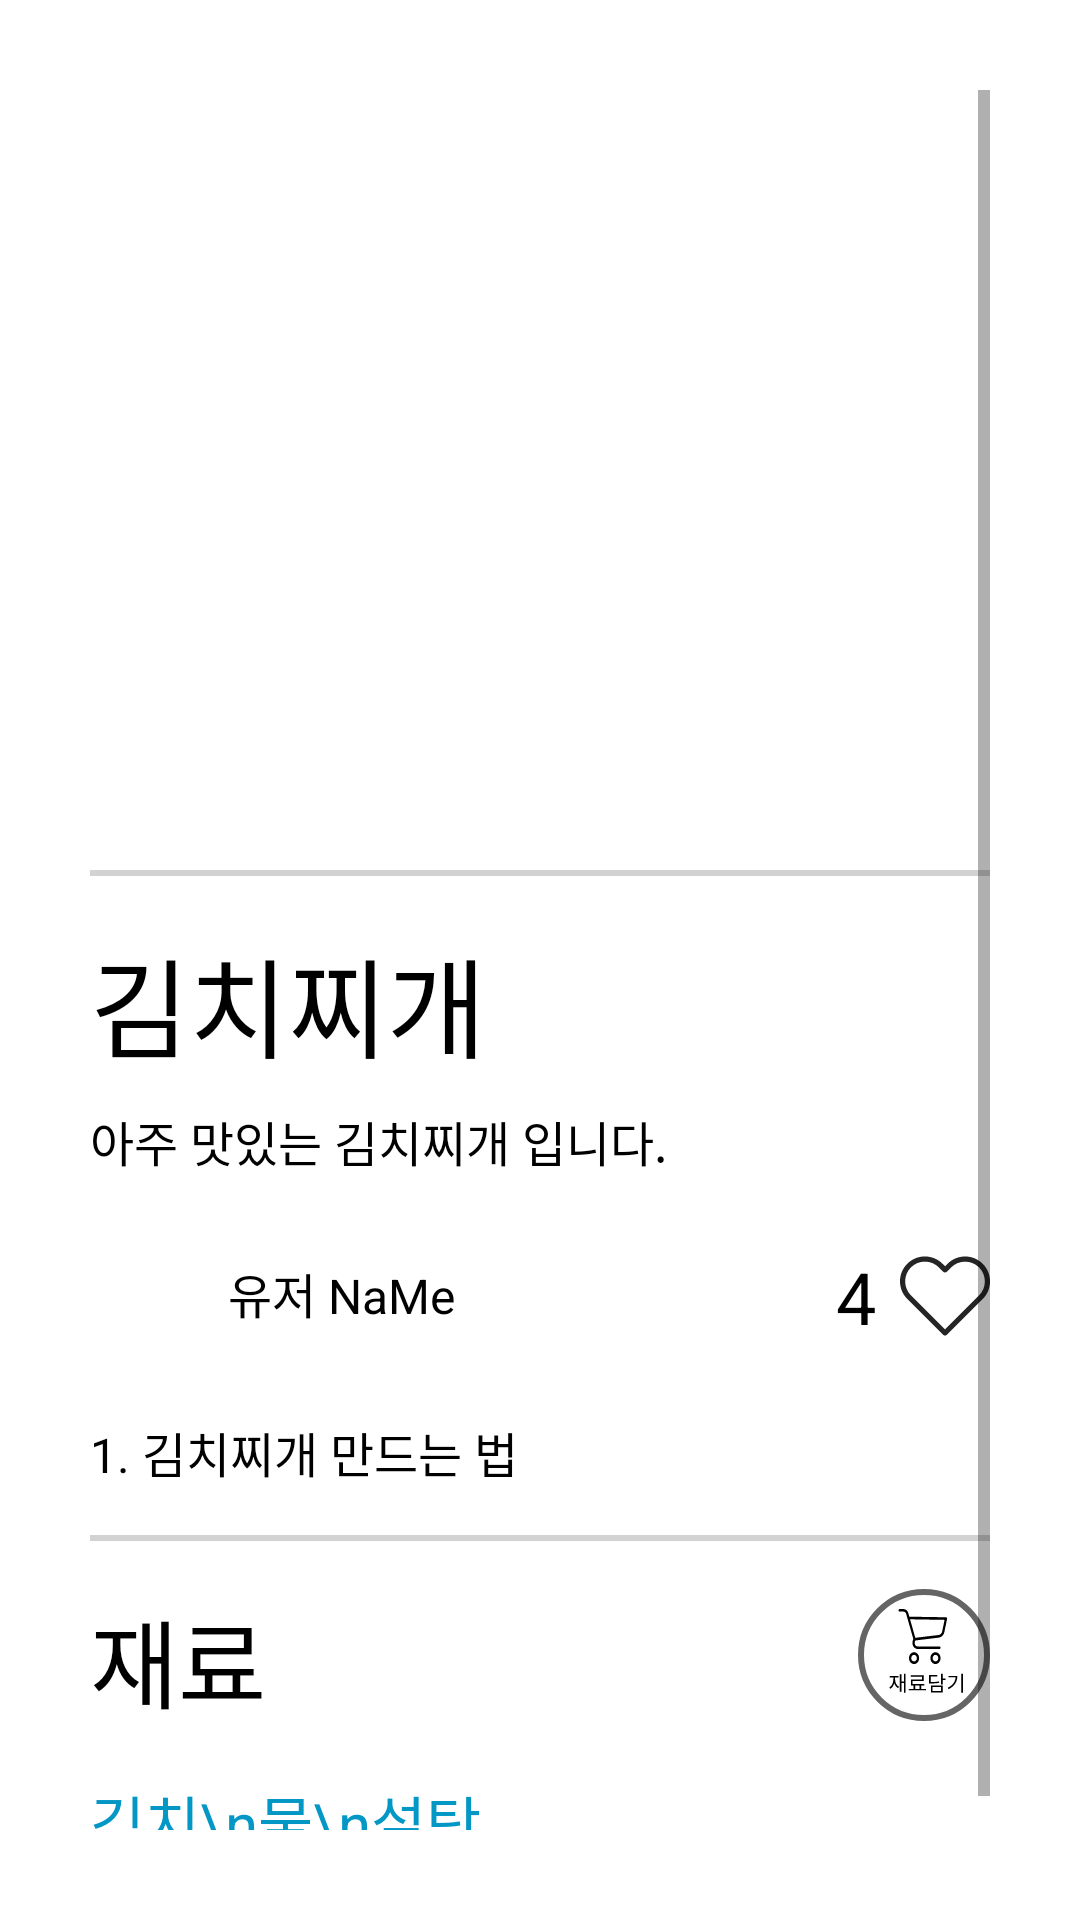

Point at icon controls on the screen. Image size 1080px x 1920px, points as [x,y].
cart: [924,1655]
good: [945,1296]
